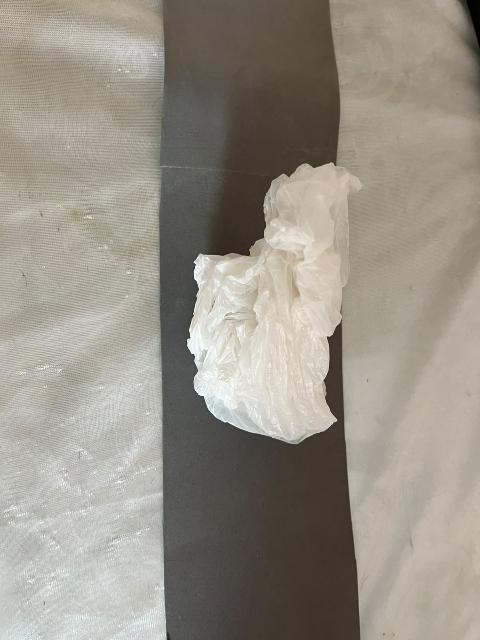LDPE: (157, 127, 391, 460)
